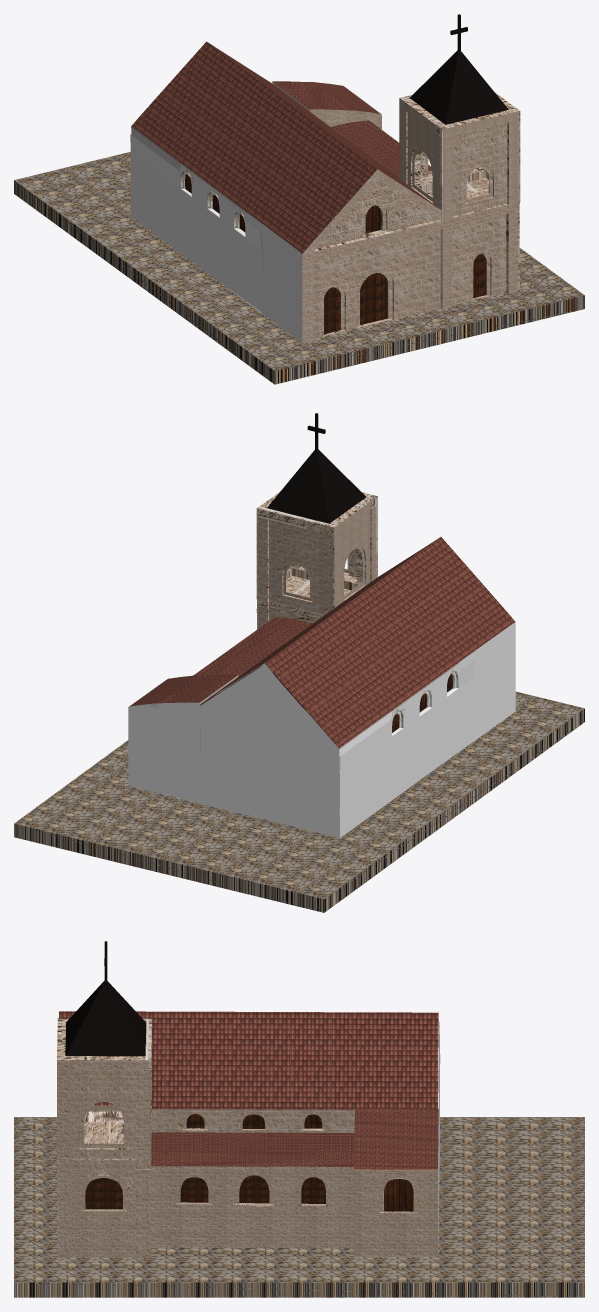
The picture shows the model from 3 angles, top to bottom: view 1: azimuth 30°, elevation 25°; view 2: azimuth 150°, elevation 25°; view 3: azimuth 270°, elevation 25°; orthographic projection. The views are drawn at different scales.
Parts seen in each view (by area): view 1: Objeto_1, Cubo_3, Cubo_4, Cubo, Cubo.001, Cubo.002, Cubo_2; view 2: Cubo, Objeto_1, Cubo_3, Cubo.001, Cubo.002, Cubo_4; view 3: Objeto_1, Cubo_3, Cubo_4, Cubo.001, Cubo_2, Cubo.002.
Part boxes in pixels (bbox=[...]): Objeto_1: bbox=[14, 151, 584, 384]; Cubo_3: bbox=[131, 41, 439, 253]; Cubo_4: bbox=[179, 82, 519, 343]; Cubo: bbox=[130, 46, 302, 342]; Cubo.001: bbox=[399, 92, 520, 220]; Cubo.002: bbox=[410, 14, 508, 124]; Cubo_2: bbox=[185, 174, 486, 333]; Cubo: bbox=[128, 622, 515, 837]; Objeto_1: bbox=[14, 691, 584, 912]; Cubo_3: bbox=[130, 537, 515, 748]; Cubo.001: bbox=[256, 492, 377, 615]; Cubo.002: bbox=[267, 413, 365, 523]; Cubo_4: bbox=[129, 599, 515, 769]; Objeto_1: bbox=[14, 1117, 584, 1297]; Cubo_3: bbox=[59, 1011, 439, 1169]; Cubo_4: bbox=[57, 1109, 437, 1258]; Cubo.001: bbox=[57, 1018, 151, 1160]; Cubo_2: bbox=[85, 1114, 413, 1211]; Cubo.002: bbox=[65, 941, 146, 1056].
Size of the model in its own units: 23.75 by 20.76 by 34.58.
6 materials, 4 textured.
